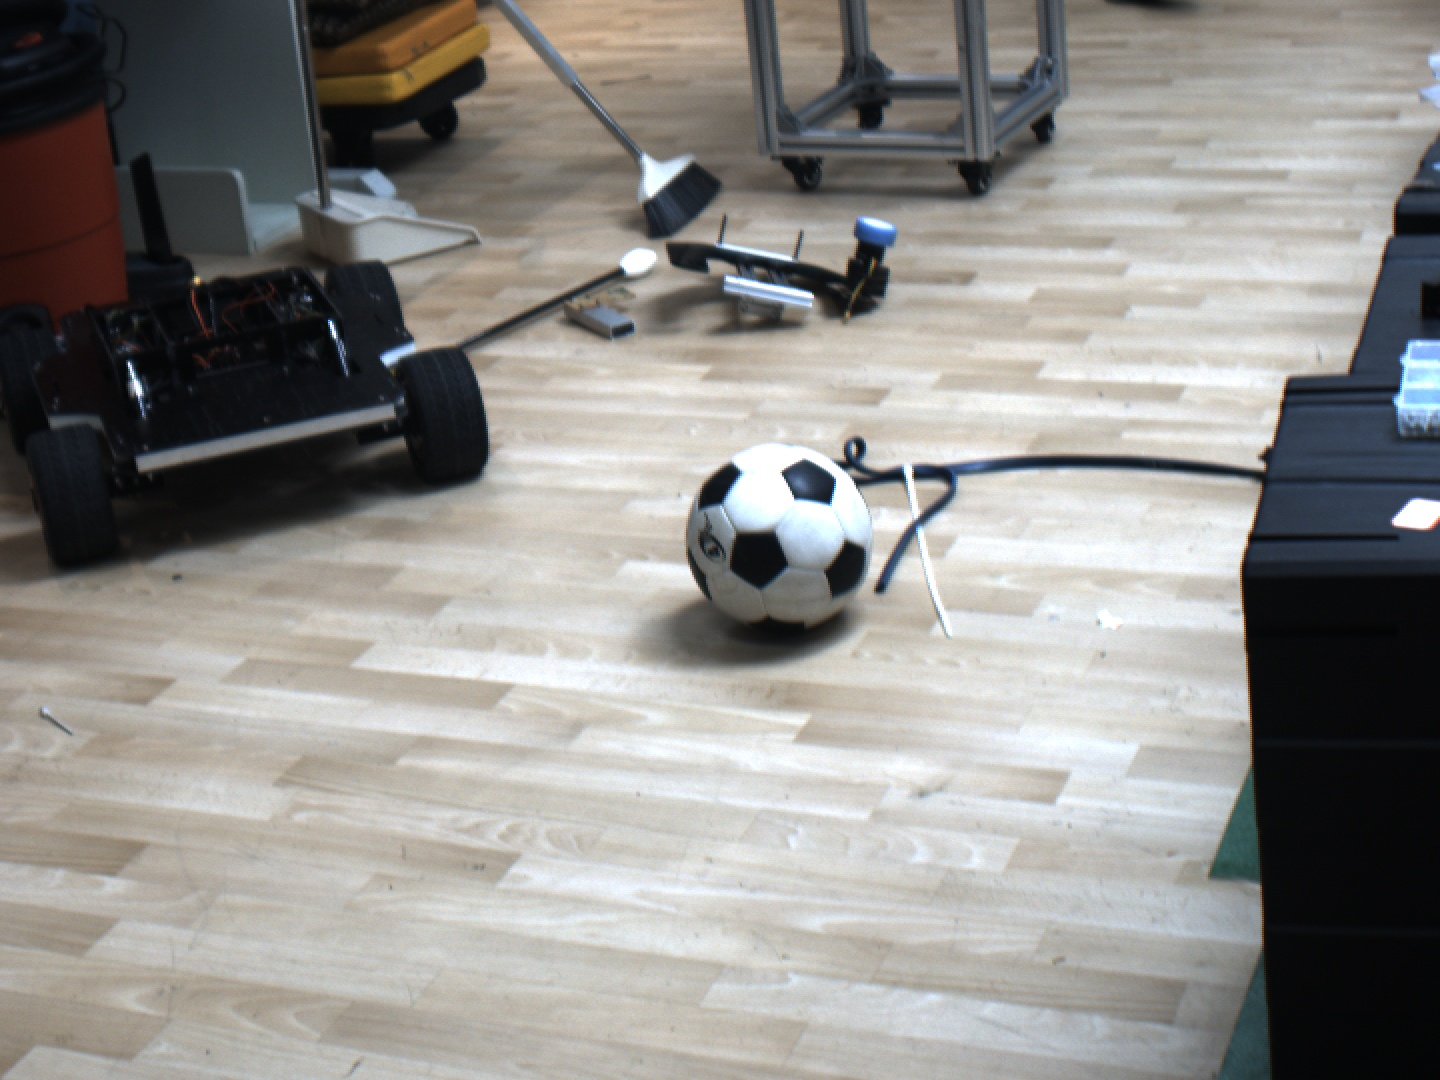ball: (675, 436, 889, 641)
